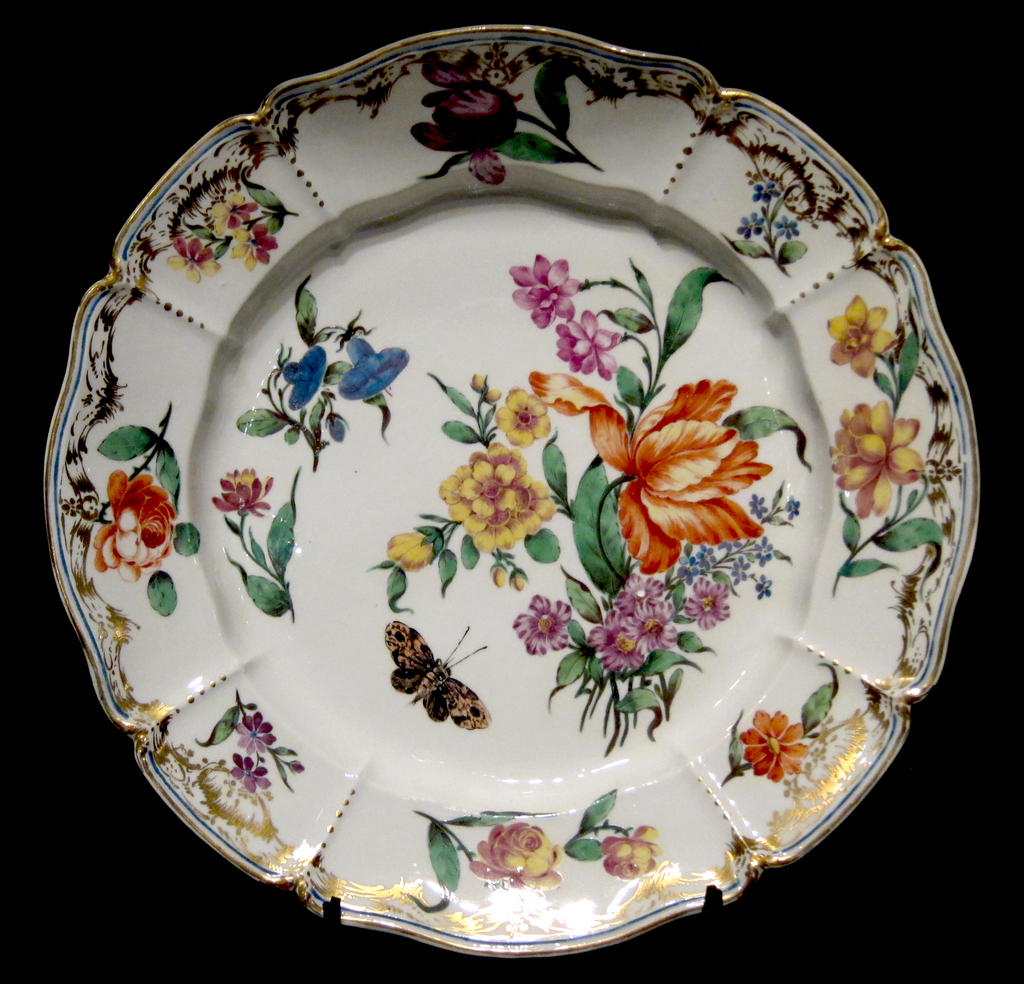plate: (43, 23, 980, 955)
